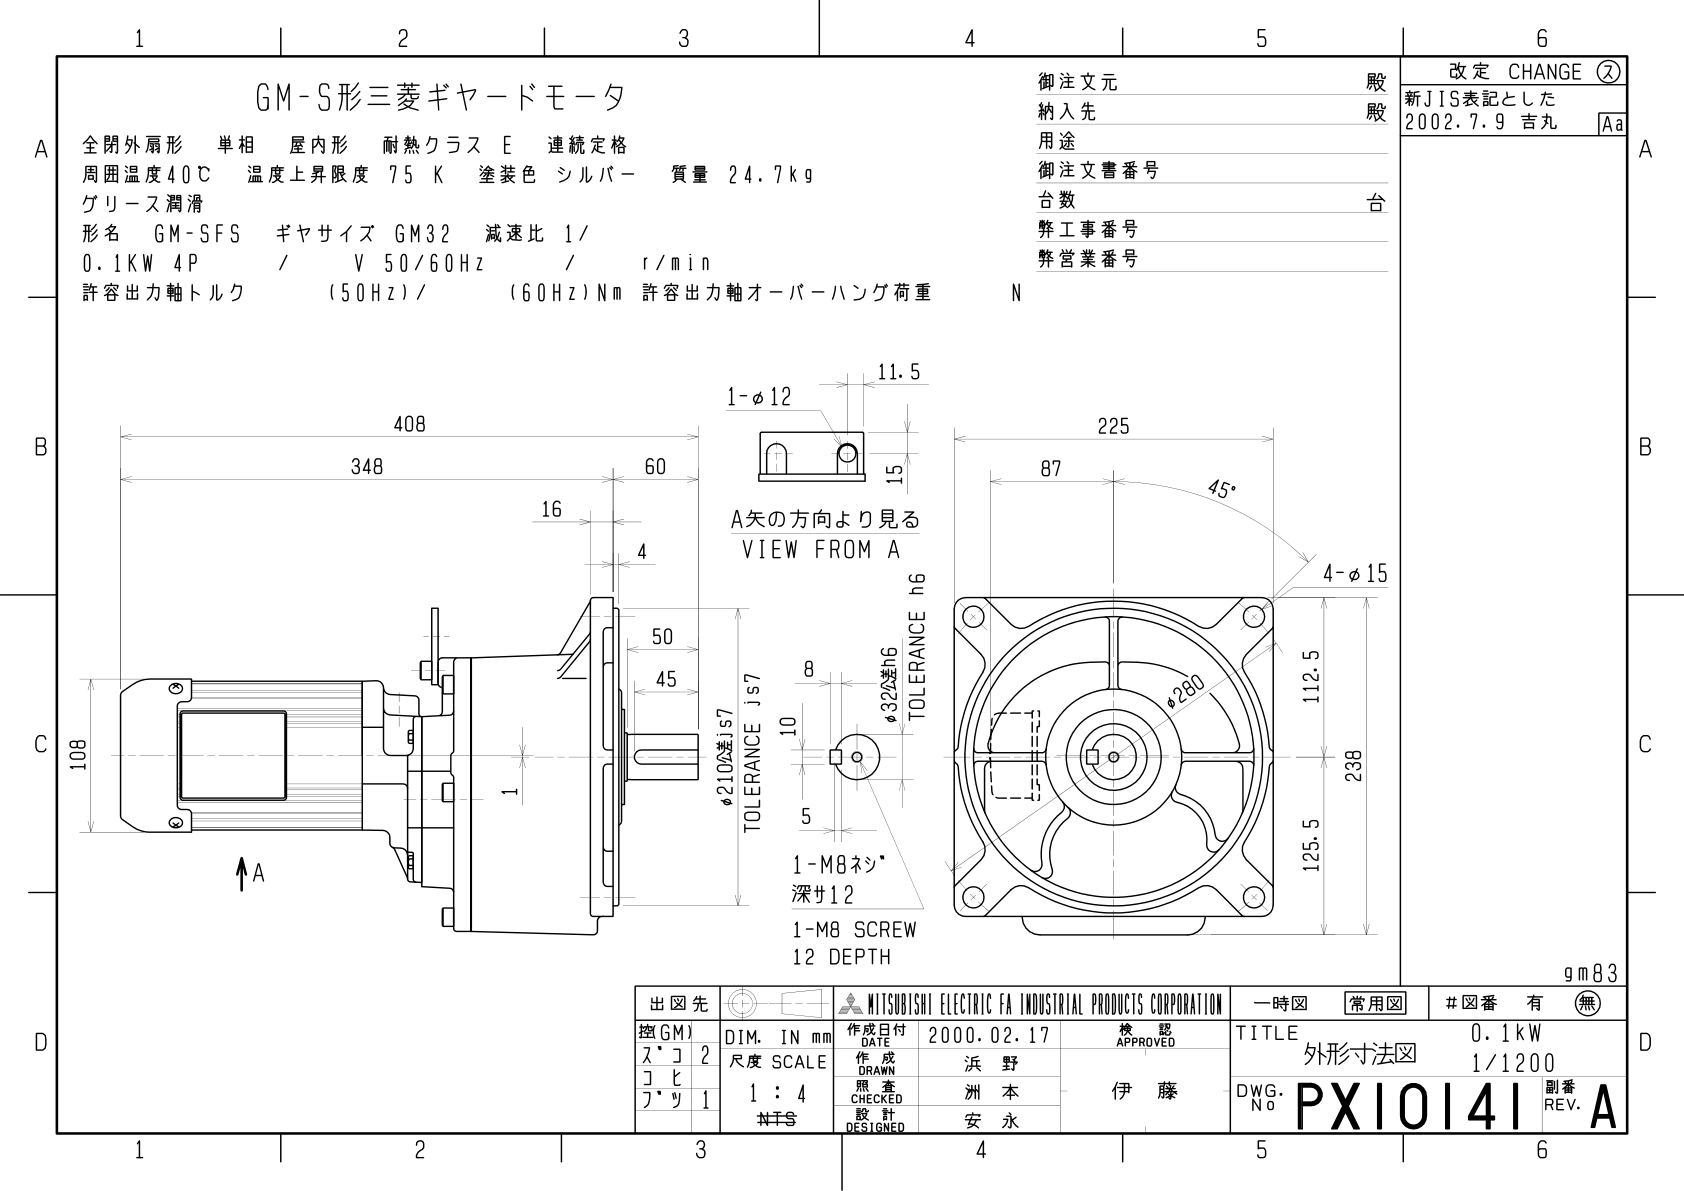GM_S_屋内＿単相_フランジ: (61, 331, 1392, 974)
